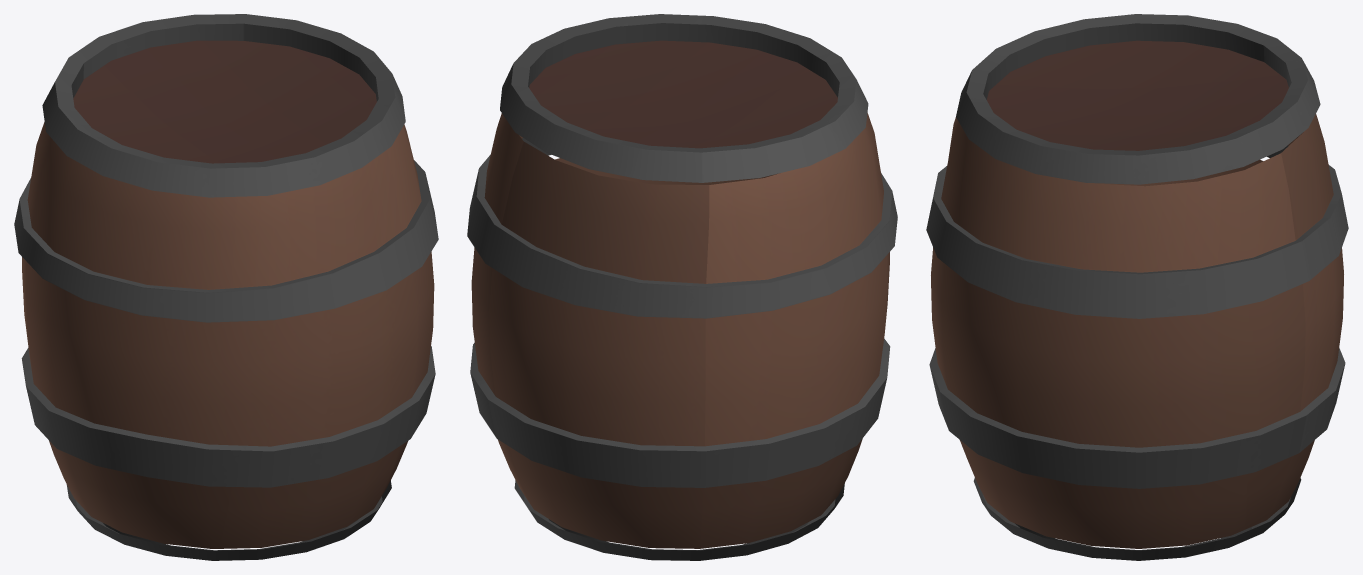
The model's file is tonneau.fbx.
3 renders of one model, left to right at view 1: azimuth 30°, elevation 25°; view 2: azimuth 150°, elevation 25°; view 3: azimuth 270°, elevation 25°, orthographic.
Parts seen in each view (by area): view 1: tonneau; view 2: tonneau; view 3: tonneau.
Part boxes in pixels (<box>): tonneau: <box>14,14,438,560</box>; tonneau: <box>467,14,897,560</box>; tonneau: <box>926,14,1348,560</box>.
Size of the model in its own units: 98.4 by 105 by 96.62.
